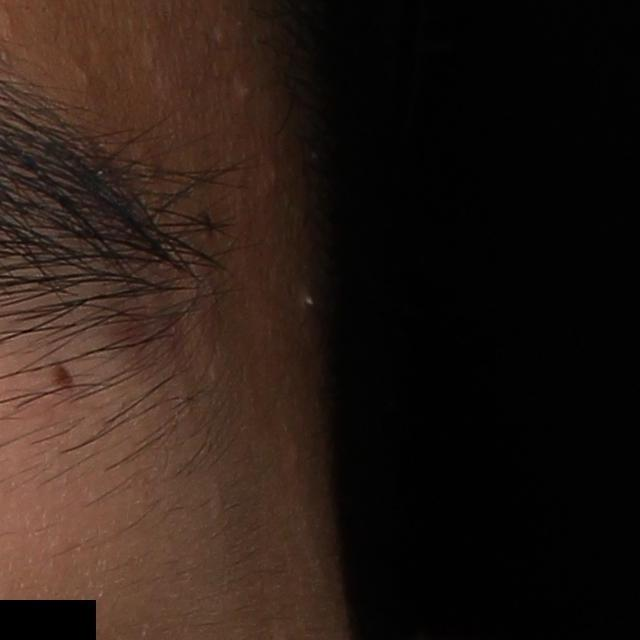nevus: (51, 357, 78, 394)
